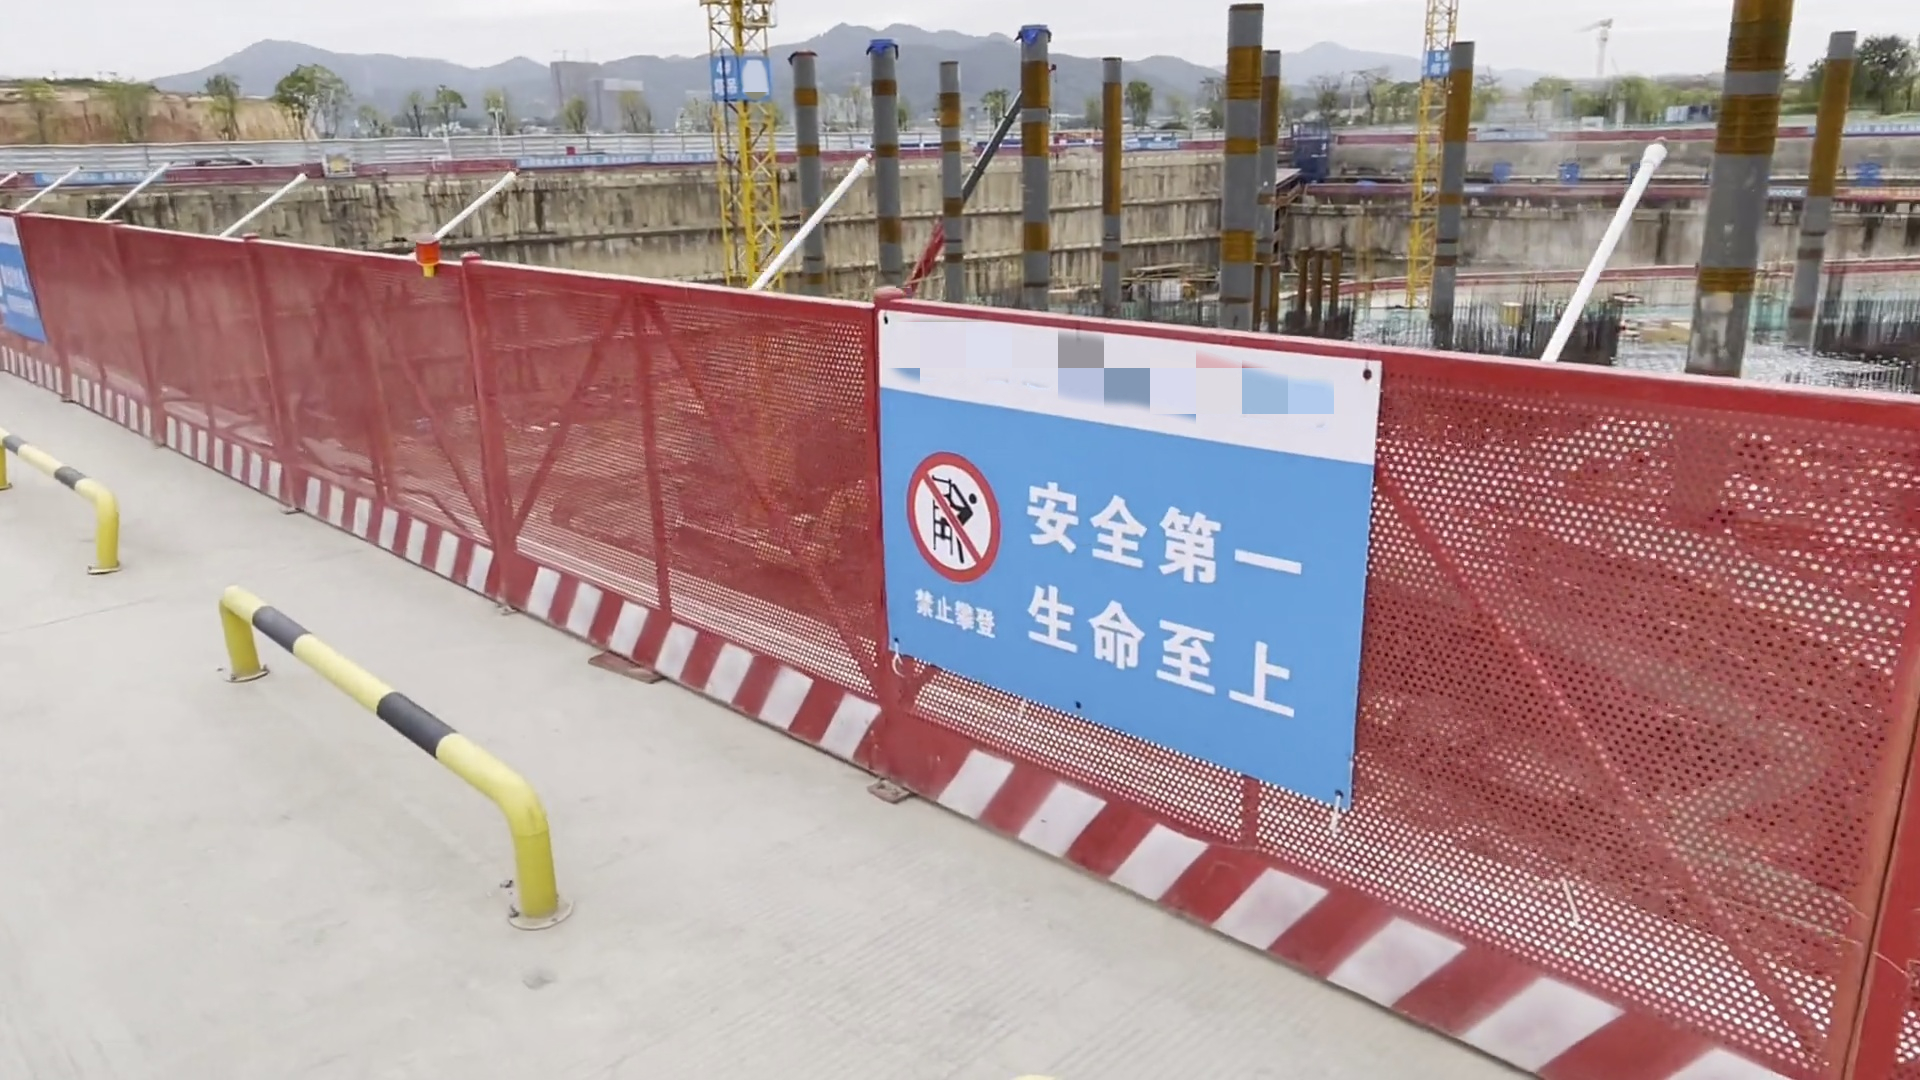fence: (357, 269, 1920, 1080), (177, 165, 345, 195)
slogan: (881, 331, 1379, 808), (1486, 164, 1727, 189), (705, 55, 752, 98), (36, 169, 149, 185), (1427, 50, 1452, 76)
